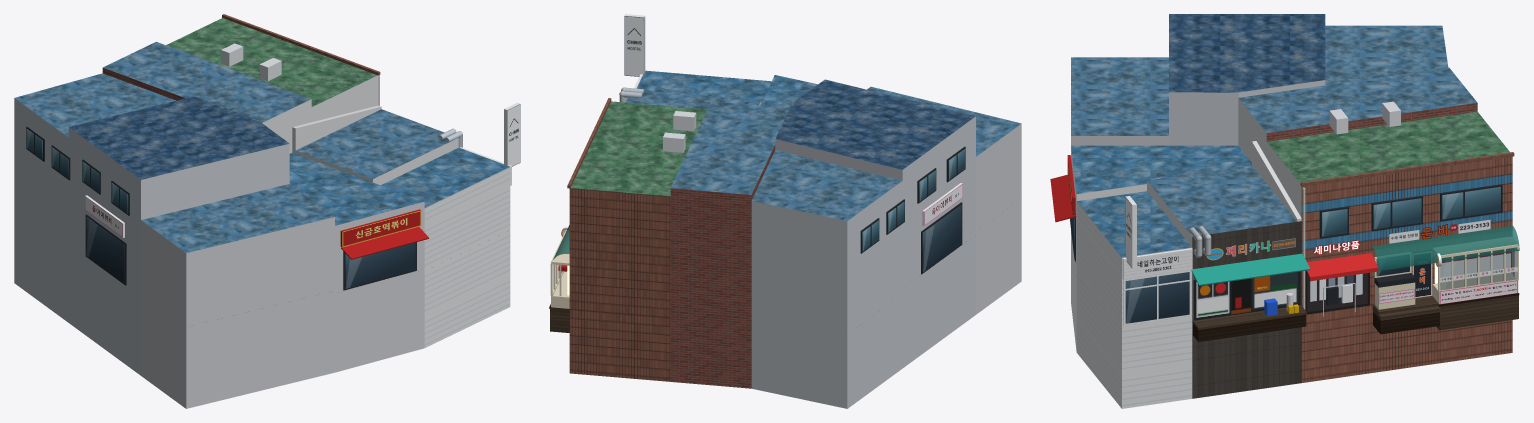
Rendered from place_페리카나.glb.
The picture shows the model from 3 angles, left to right: view 1: azimuth 30°, elevation 25°; view 2: azimuth 150°, elevation 25°; view 3: azimuth 270°, elevation 25°; orthographic projection. The views are drawn at different scales.
Parts seen in each view (by area): view 1: UI_Beauty_Center_2F, UI_SouthWest_1F, UI_SouthWest_1F_Basement_1F, UI_NorthWest_2F, B7a_NailCat_1F, B8_Unbi_Semina_2F, B8_Rear_BlueRoof_2F, B7c_ShingeumhoTteokbokki_1F_Basement_1F, B7b_Pelicana_1F, B7a_NailCat_1F_Basement_1F, B7c_ShingeumhoTteokbokki_1F, UI_Beauty_Center_2F_Basement_1F (+12 smaller); view 2: UI_NorthWest_2F, B8_Unbi_Semina_2F, B8_Rear_BlueRoof_2F, UI_Beauty_Center_2F, UI_NorthWest_2F_Basement_1F, B8_Unbi_Semina_2F_Basement_1F, UI_Beauty_Center_2F_Basement_1F, B8_Rear_BlueRoof_2F_Basement_1F, UI_SouthWest_1F, UI_SouthWest_1F_Basement_1F, B7a_NailCat_1F, Merged_UI_1F_Glass (+11 smaller); view 3: B8_Unbi_Semina_2F, UI_Beauty_Center_2F, B8_Rear_BlueRoof_2F, B7b_Pelicana_1F, B8_Unbi_Semina_2F_Basement_1F, B7a_NailCat_1F_Basement_1F, UI_SouthWest_1F, B7a_NailCat_1F, B7c_ShingeumhoTteokbokki_1F, UI_NorthWest_2F, B7b_Pelicana_1F_Basement_1F, B8_Facade_East (+31 smaller).
Boxes of the visible parts, <box> form: UI_Beauty_Center_2F: <box>68,96,289,296</box>; UI_SouthWest_1F: <box>141,184,334,326</box>; UI_SouthWest_1F_Basement_1F: <box>141,291,334,408</box>; UI_NorthWest_2F: <box>14,73,175,248</box>; B7a_NailCat_1F: <box>381,147,510,270</box>; B8_Unbi_Semina_2F: <box>166,18,378,121</box>; B8_Rear_BlueRoof_2F: <box>102,41,311,153</box>; B7c_ShingeumhoTteokbokki_1F_Basement_1F: <box>335,269,424,372</box>; B7b_Pelicana_1F: <box>292,109,458,185</box>; B7a_NailCat_1F_Basement_1F: <box>424,230,510,347</box>; B7c_ShingeumhoTteokbokki_1F: <box>289,152,424,292</box>; UI_Beauty_Center_2F_Basement_1F: <box>68,244,140,375</box>; UI_NorthWest_2F: <box>751,150,902,333</box>; B8_Unbi_Semina_2F: <box>569,101,707,317</box>; B8_Rear_BlueRoof_2F: <box>670,101,789,317</box>; UI_Beauty_Center_2F: <box>775,79,975,288</box>; UI_NorthWest_2F_Basement_1F: <box>751,294,902,408</box>; B8_Unbi_Semina_2F_Basement_1F: <box>569,309,670,381</box>; UI_Beauty_Center_2F_Basement_1F: <box>902,235,975,367</box>; B8_Rear_BlueRoof_2F_Basement_1F: <box>670,310,751,388</box>; UI_SouthWest_1F: <box>867,86,1021,231</box>; UI_SouthWest_1F_Basement_1F: <box>976,198,1021,314</box>; B7a_NailCat_1F: <box>637,70,771,102</box>; Merged_UI_1F_Glass: <box>922,204,961,272</box>; B8_Unbi_Semina_2F: <box>1266,111,1512,306</box>; UI_Beauty_Center_2F: <box>1169,14,1325,145</box>; B8_Rear_BlueRoof_2F: <box>1238,67,1477,162</box>; B7b_Pelicana_1F: <box>1147,165,1301,320</box>; B8_Unbi_Semina_2F_Basement_1F: <box>1301,305,1512,382</box>; B7a_NailCat_1F_Basement_1F: <box>1076,270,1192,408</box>; UI_SouthWest_1F: <box>1071,57,1168,145</box>; B7a_NailCat_1F: <box>1076,191,1192,325</box>; B7c_ShingeumhoTteokbokki_1F: <box>1071,145,1251,264</box>; UI_NorthWest_2F: <box>1325,25,1448,85</box>; B7b_Pelicana_1F_Basement_1F: <box>1192,321,1301,398</box>; B8_Facade_East: <box>1305,240,1517,314</box>.
Size of the model in its own units: 23.33 by 12.49 by 24.01.
48 materials, 30 textured.
